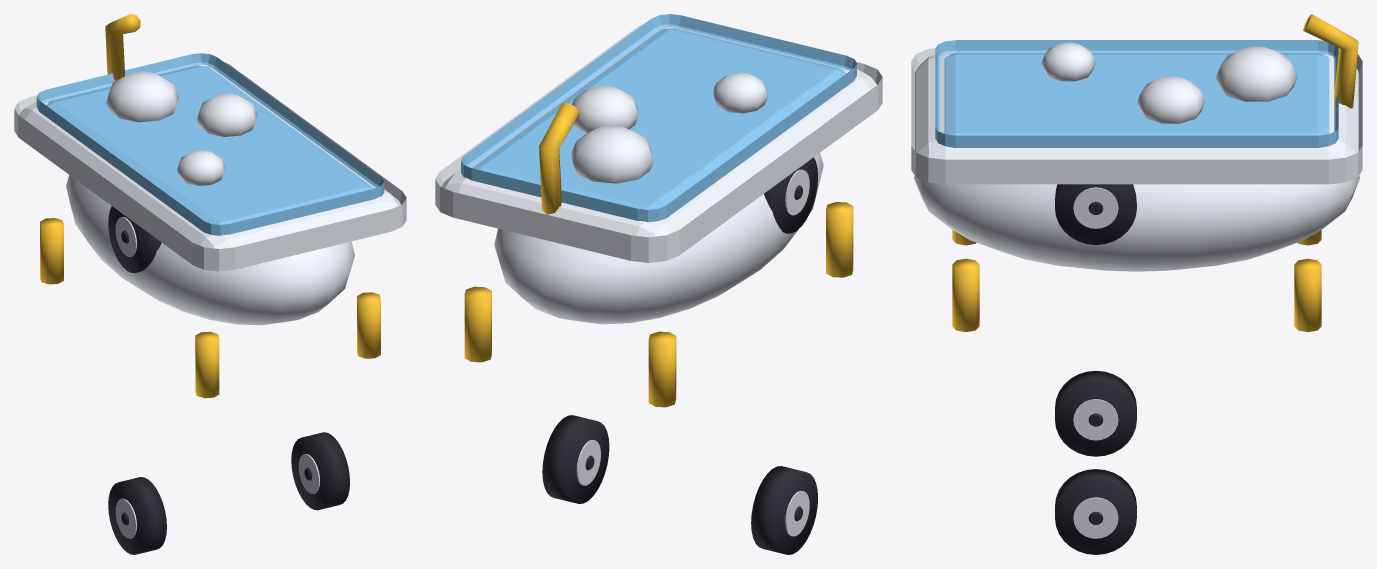
The model's file is Car_Bathtub.fbx.
3 views of the same model, side by side, from view 1: azimuth 30°, elevation 25°; view 2: azimuth 150°, elevation 25°; view 3: azimuth 270°, elevation 25° (orthographic). The views are drawn at different scales.
Parts seen in each view (by area): view 1: Car_Bathtub, Wheel_FR, Wheel_FL, Wheel_RL; view 2: Car_Bathtub, Wheel_FL, Wheel_FR, Wheel_RL; view 3: Car_Bathtub, Wheel_FL, Wheel_FR, Wheel_RR.
Part boxes in pixels (<box>): Car_Bathtub: <box>14,14,406,398</box>; Wheel_FR: <box>291,432,349,510</box>; Wheel_FL: <box>108,477,166,554</box>; Wheel_RL: <box>108,206,161,273</box>; Car_Bathtub: <box>435,14,882,407</box>; Wheel_FL: <box>751,466,817,554</box>; Wheel_FR: <box>542,415,609,503</box>; Wheel_RL: <box>764,157,817,233</box>; Car_Bathtub: <box>911,14,1362,331</box>; Wheel_FL: <box>1055,370,1136,456</box>; Wheel_FR: <box>1055,469,1136,554</box>; Wheel_RR: <box>1055,184,1136,244</box>.
Size of the model in its own units: 0.7808 by 1.57 by 1.32.
